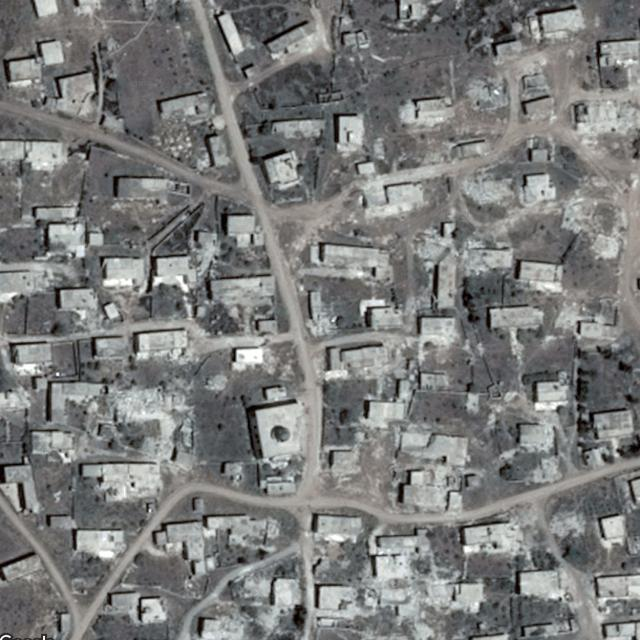damaged_building: (354, 552, 454, 640), (101, 383, 195, 462), (561, 197, 619, 258), (572, 98, 640, 150), (242, 574, 284, 634), (416, 314, 462, 364), (461, 171, 516, 207), (522, 454, 562, 480), (549, 510, 587, 536), (203, 373, 230, 392)
